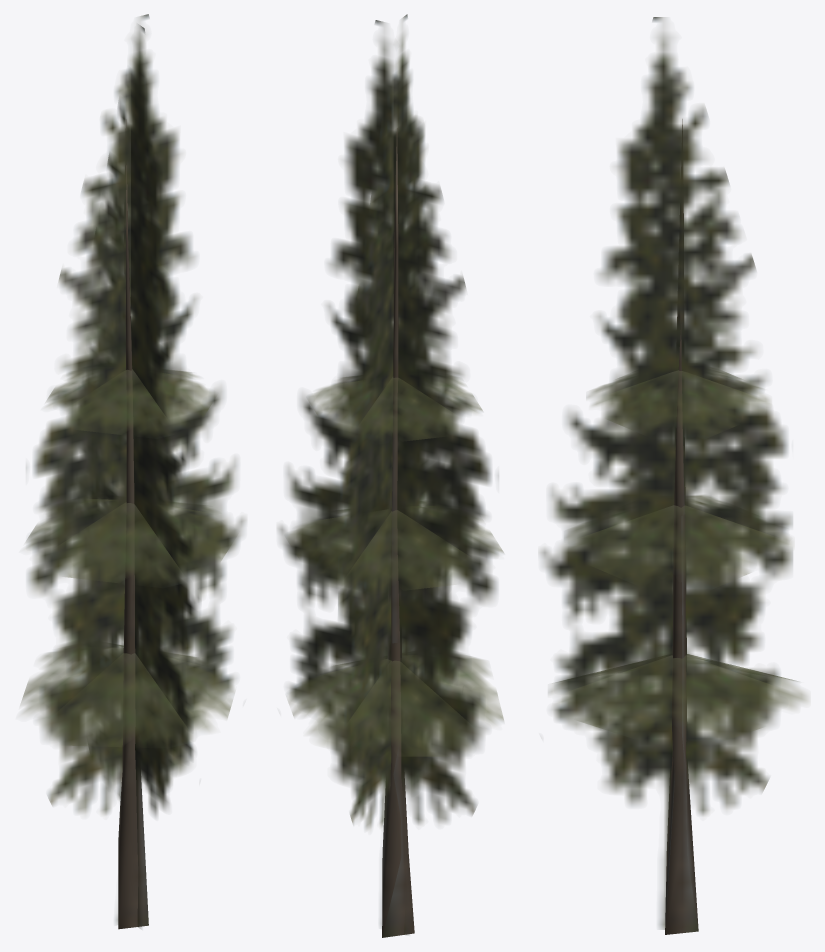
The model's file is wld_tree1.glb.
3 renders of one model, left to right at view 1: azimuth 30°, elevation 25°; view 2: azimuth 150°, elevation 25°; view 3: azimuth 270°, elevation 25°, orthographic.
Visible parts, largest first — view 1: Background_Tree_Atlas.003_Background_Tree_Atlas_0; view 2: Background_Tree_Atlas.003_Background_Tree_Atlas_0; view 3: Background_Tree_Atlas.003_Background_Tree_Atlas_0.
Boxes of the visible parts, x1,y1,x2,y2 form: Background_Tree_Atlas.003_Background_Tree_Atlas_0: (21,14,245,929); Background_Tree_Atlas.003_Background_Tree_Atlas_0: (278,14,503,937); Background_Tree_Atlas.003_Background_Tree_Atlas_0: (540,17,807,934).
Bounding box in the file's own units: 6.69 × 26.01 × 7.05.
Materials: 1 (1 with a texture image).
